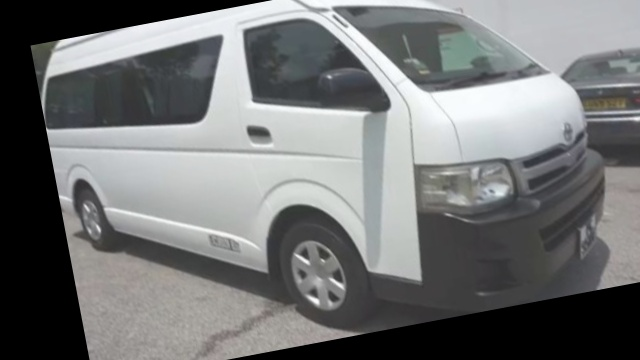van: (30, 0, 638, 360)
